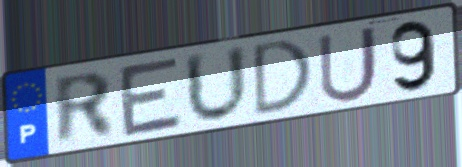9: (388, 18, 440, 95)
D: (251, 36, 315, 121)
E: (116, 53, 186, 140)
R: (51, 69, 119, 149)
U: (181, 42, 253, 126), (315, 22, 381, 106)
